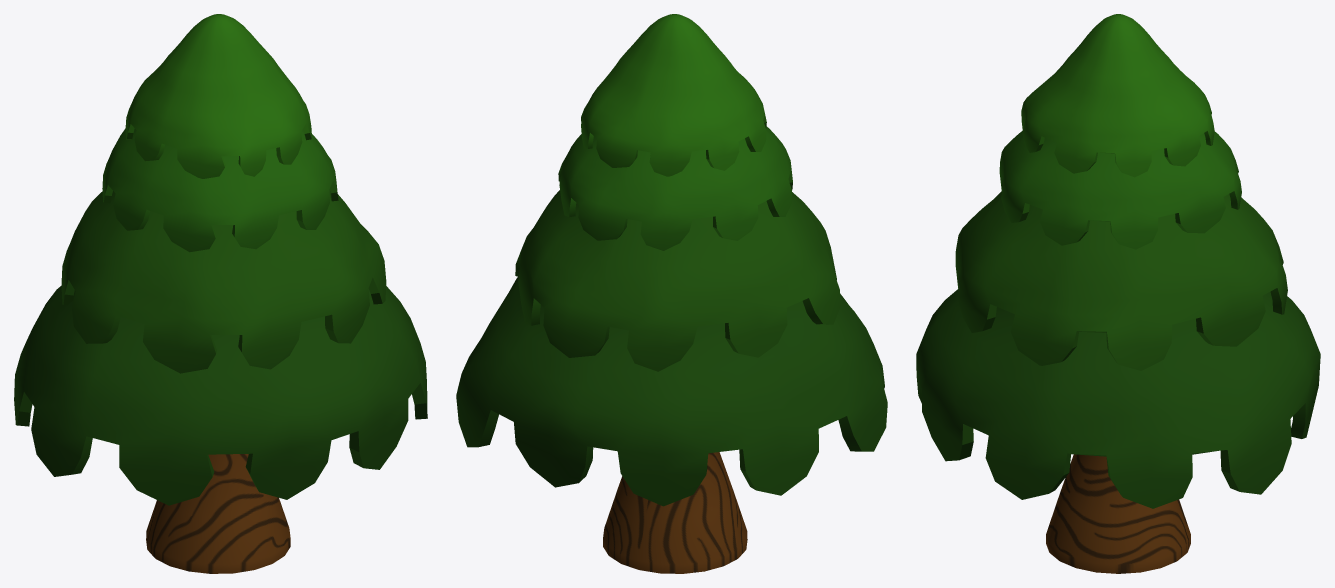
Rendered from tree.fbx.
3 renders of one model, left to right at view 1: azimuth 30°, elevation 25°; view 2: azimuth 150°, elevation 25°; view 3: azimuth 270°, elevation 25°, orthographic.
Parts seen in each view (by area): view 1: tree_geo; view 2: tree_geo; view 3: tree_geo.
Boxes of the visible parts, box(x1,y1,x2,y2) form: tree_geo: box(14, 14, 427, 573); tree_geo: box(456, 14, 887, 573); tree_geo: box(916, 14, 1320, 573).
Size of the model in its own units: 483 by 660 by 459.
Materials: 1 (1 with a texture image).
